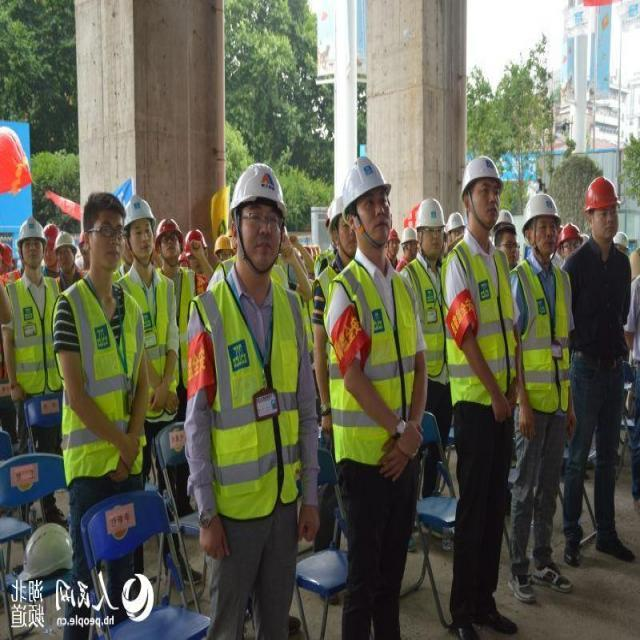Helmet: (228, 160, 286, 276)
NoHelmet: (82, 191, 128, 279)
NoVest: (568, 242, 632, 355)
Vest: (185, 284, 310, 507)
